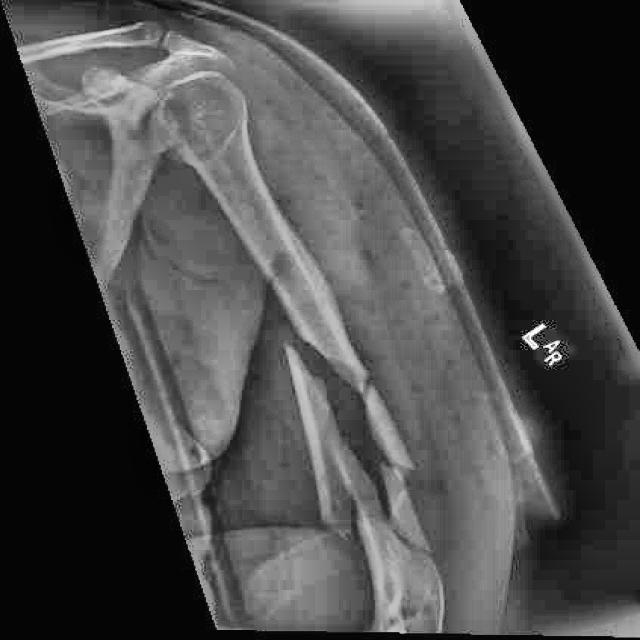humerus: (270, 294, 474, 629)
